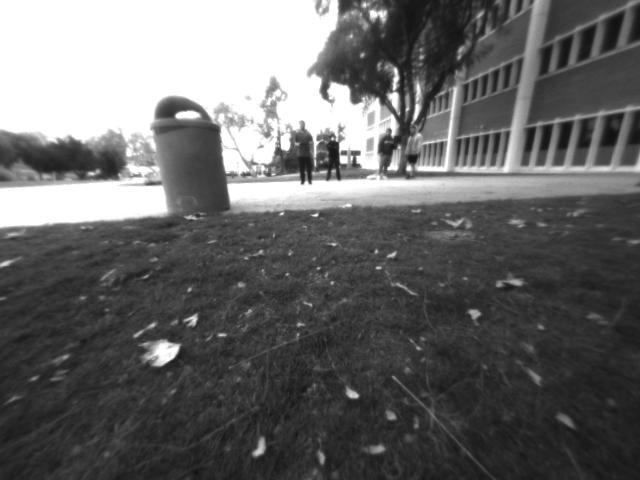trashcan: (145, 92, 238, 219)
